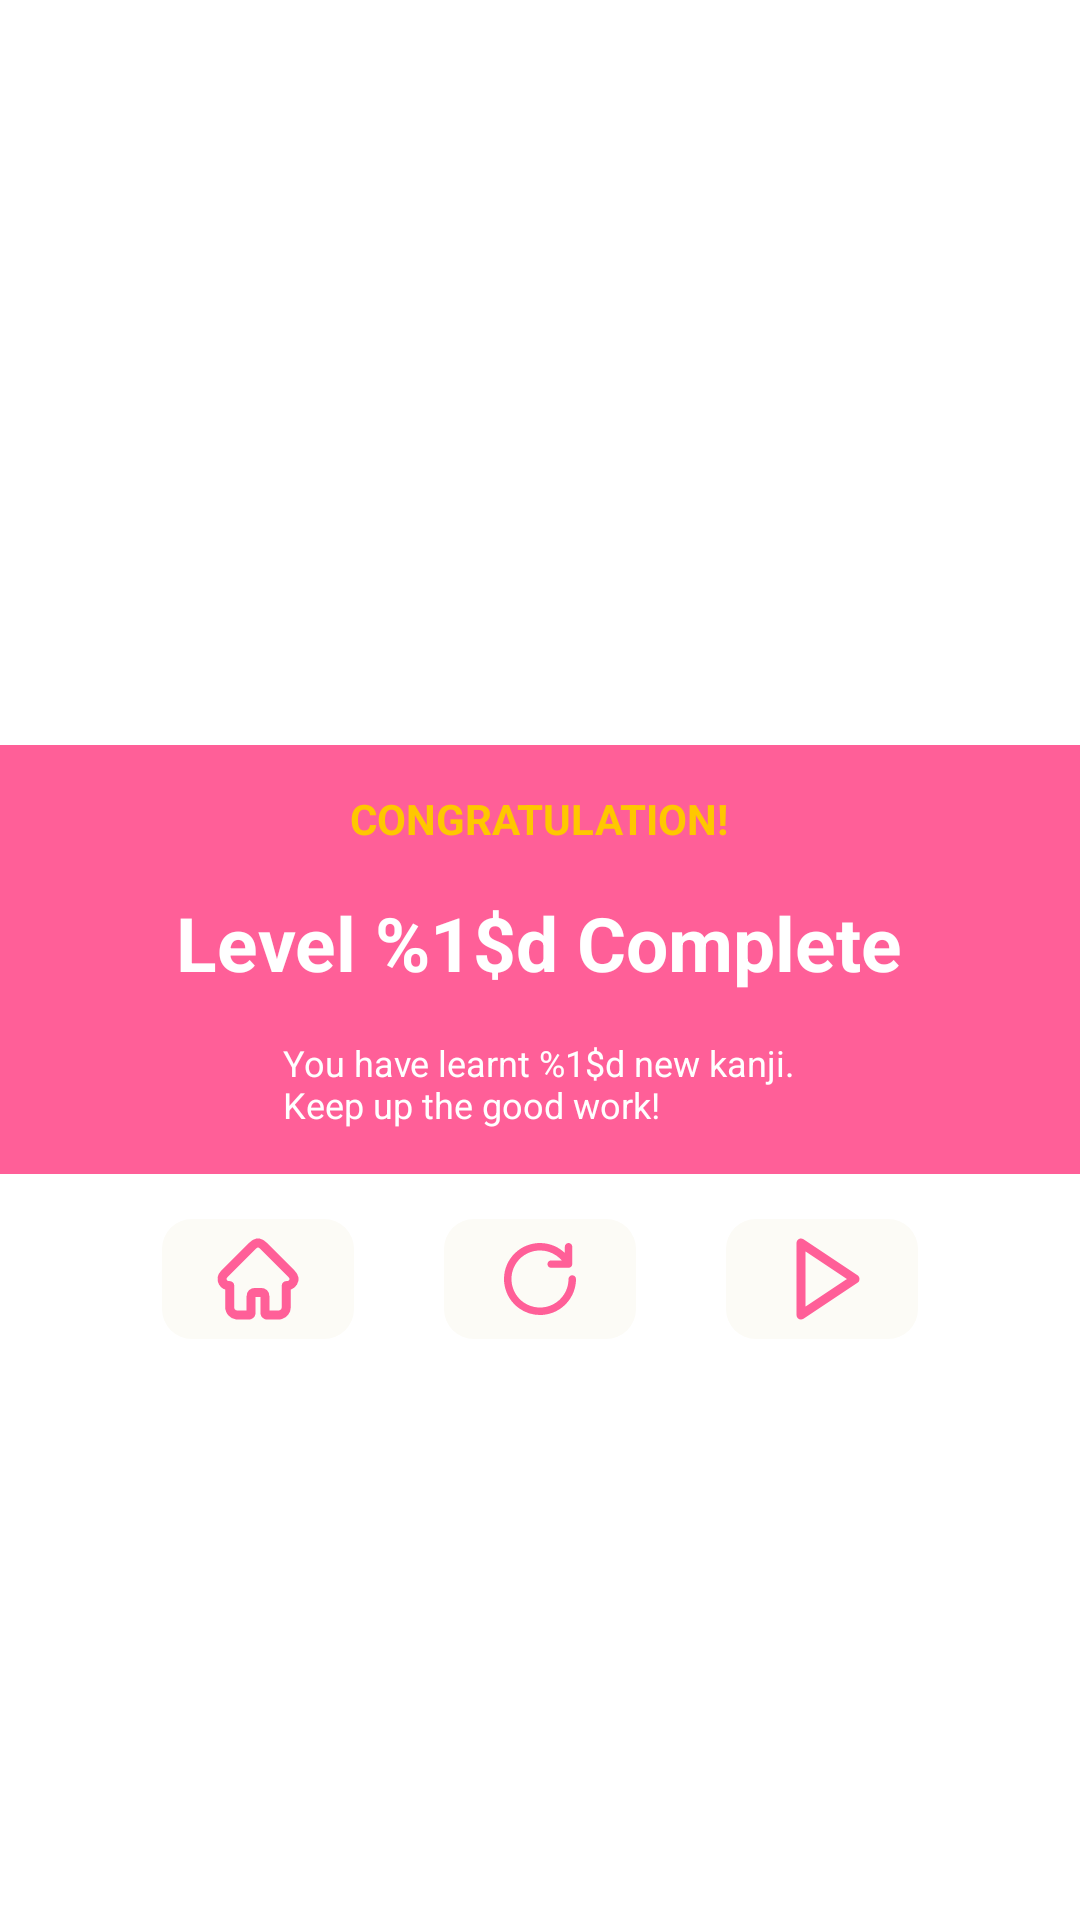

Icons on this 1080w x 1920h Android screen, each with its box as (x1, y1, x2, y2):
continue: (726, 1219, 918, 1339)
home: (162, 1219, 354, 1339)
reset: (444, 1219, 636, 1339)
